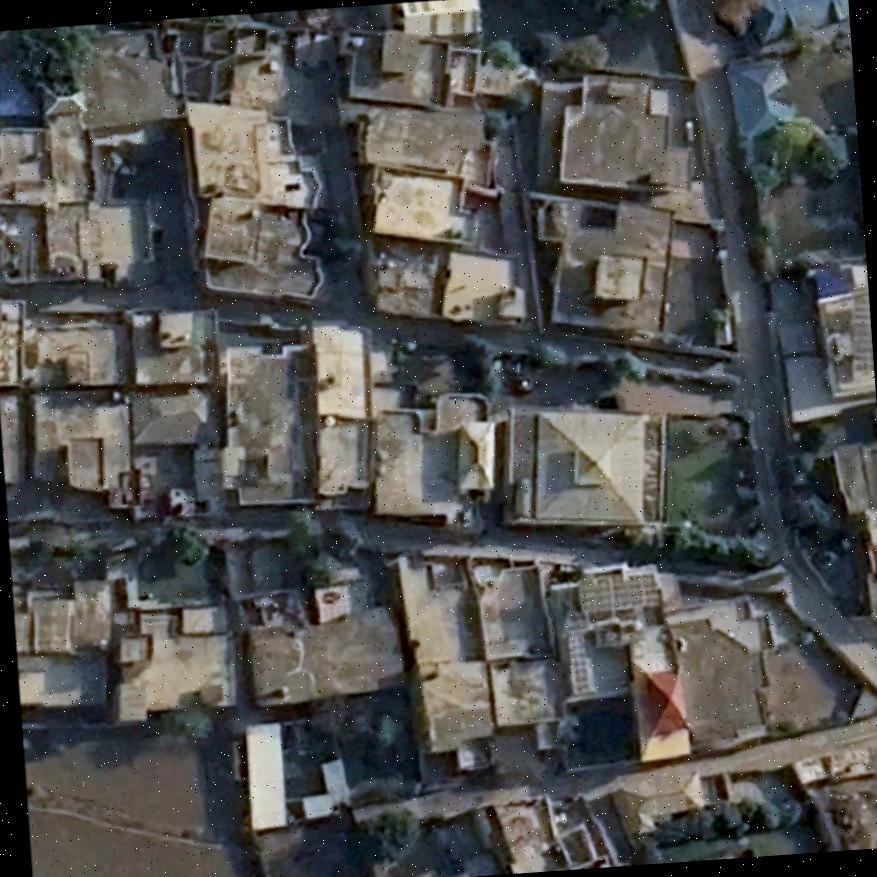Solarpanel: (574, 568, 662, 618), (560, 620, 593, 695)
